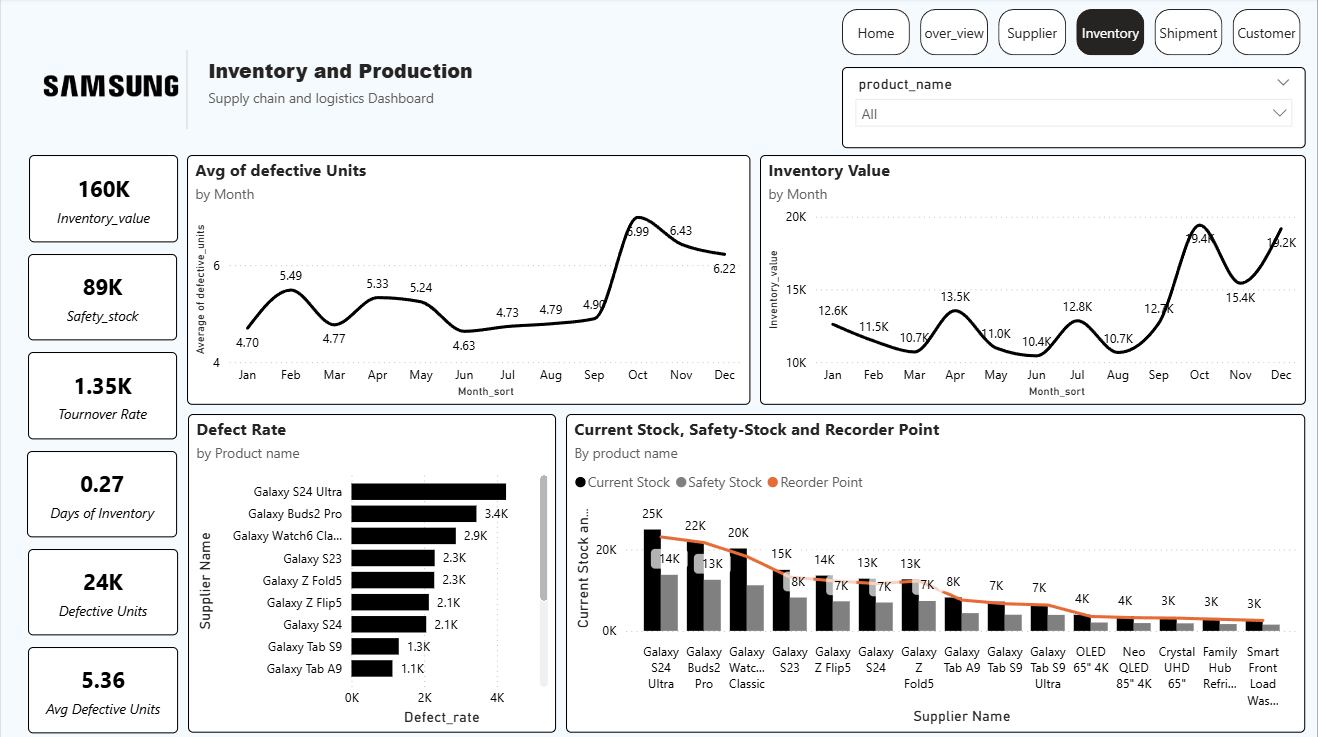

What the dashboard file says about the page in this screenshot:
{"tool":"powerbi","page":{"name":"Inventory","canvas":[1280,720],"ordinal":3},"visuals":[{"type":"image","box":[0,0,214,171.2],"z":0},{"type":"shape","box":[73.9,50.6,214,76.8],"z":1000},{"type":"textbox","title":"Inventory and Production ","box":[196.5,56.4,290.8,58.4],"z":2000},{"type":"card","fields":{"Values":["Sum(Inventoey.safety_stock_level)"]},"box":[26,249.2,145,84],"z":3000},{"type":"card","fields":{"Values":["Total_unit_cost.Tournover Rate"]},"box":[26,344.5,145,84.8],"z":4000},{"type":"card","fields":{"Values":["Total_unit_cost.Days_of_inventory"]},"box":[25,440.6,145.9,84],"z":5000},{"type":"card","fields":{"Values":["Sum(Production.defective_units)"]},"box":[26,535.9,145.9,84],"z":6000},{"type":"card","fields":{"Values":["Avg(Production.defective_units)"]},"box":[26,631.1,145.9,84],"z":7000},{"type":"card","title":"Gross Profit ","fields":{"Values":["Total_unit_cost.Inventory_value"]},"box":[27,152.9,145,85],"z":8000},{"type":"clusteredBarChart","title":"Defect Rate","fields":{"Y":["Total_unit_cost.Defect_rate"],"Category":["Product.product_name"]},"box":[181.6,405.1,358.2,310.3],"z":9000},{"type":"lineClusteredColumnComboChart","title":"Current Stock, Safety-Stock and Recorder Point","fields":{"Category":["Product.product_name"],"Y":["Total_unit_cost.Inventory_value","Sum(Inventoey.safety_stock_level)"],"Y2":["Total_unit_cost.Reorder Point"]},"box":[549.7,405.1,719.3,310.3],"z":10000},{"type":"lineChart","title":"Avg of defective Units ","fields":{"Category":["Data.Month_sort"],"Y":["Avg(Production.defective_units)"]},"box":[180.6,152.6,547.7,243.4],"z":11000},{"type":"lineChart","title":"Inventory Value ","fields":{"Category":["Data.Month_sort"],"Y":["Total_unit_cost.Inventory_value"]},"box":[738.3,152.6,530.8,243.4],"z":12000},{"type":"pageNavigator","box":[818,10.7,451.3,45.7],"z":13000},{"type":"slicer","fields":{"Values":["Product.product_name"]},"box":[817.6,66.8,451.3,78.9],"z":14000}]}

Visuals, with their boxes in screenshot pixels (x1, y1, x2, y2), scaled from the page's 1280x720 canvas onto the 1318x737 screenshot:
image: 0,0,220,175
shape: 76,52,296,130
"Inventory and Production " textbox: 202,58,502,118
card - Sum(Inventoey.safety_stock_level): 27,255,176,341
card - Total_unit_cost.Tournover Rate: 27,353,176,439
card - Total_unit_cost.Days_of_inventory: 26,451,176,537
card - Sum(Production.defective_units): 27,549,177,635
card - Avg(Production.defective_units): 27,646,177,732
"Gross Profit " card: 28,157,177,244
"Defect Rate" clusteredBarChart: 187,415,556,732
"Current Stock, Safety-Stock and Recorder Point" lineClusteredColumnComboChart: 566,415,1307,732
"Avg of defective Units " lineChart: 186,156,750,405
"Inventory Value " lineChart: 760,156,1307,405
pageNavigator: 842,11,1307,58
slicer - Product.product_name: 842,68,1307,149
